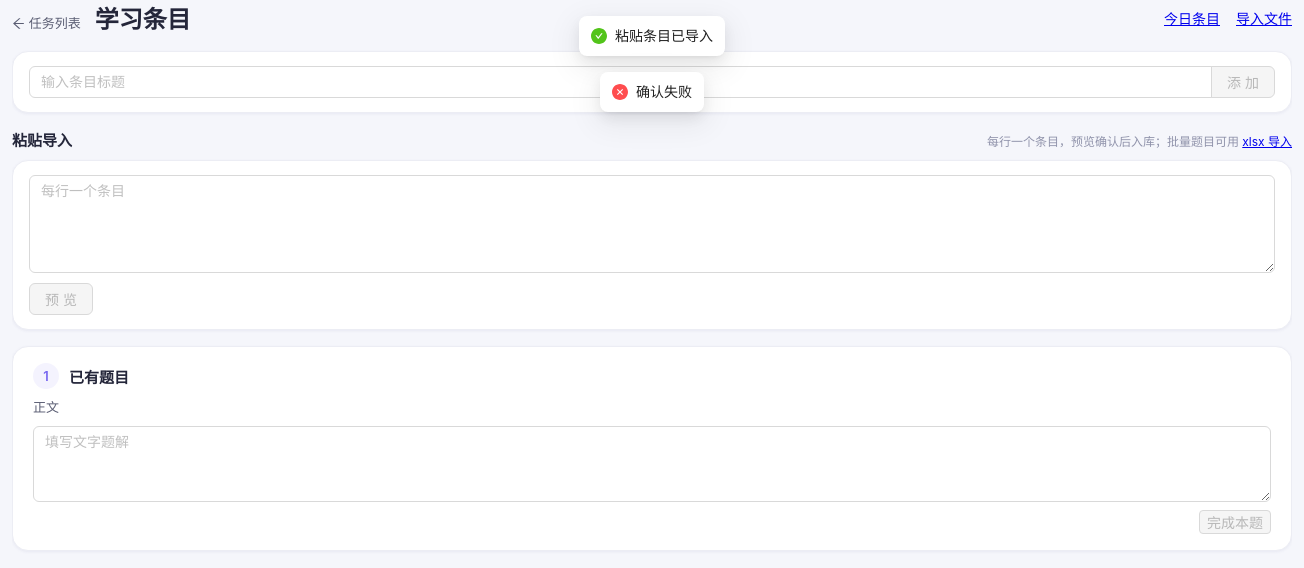
Scenario: ItemPage 完成闭环 › sends exactly one complete request with Idempotency-Key and refreshes to completed state
Step 1. Type "我的题解" into the text box named "题解-item-1" → point(652, 464), box [33,426,1271,502]
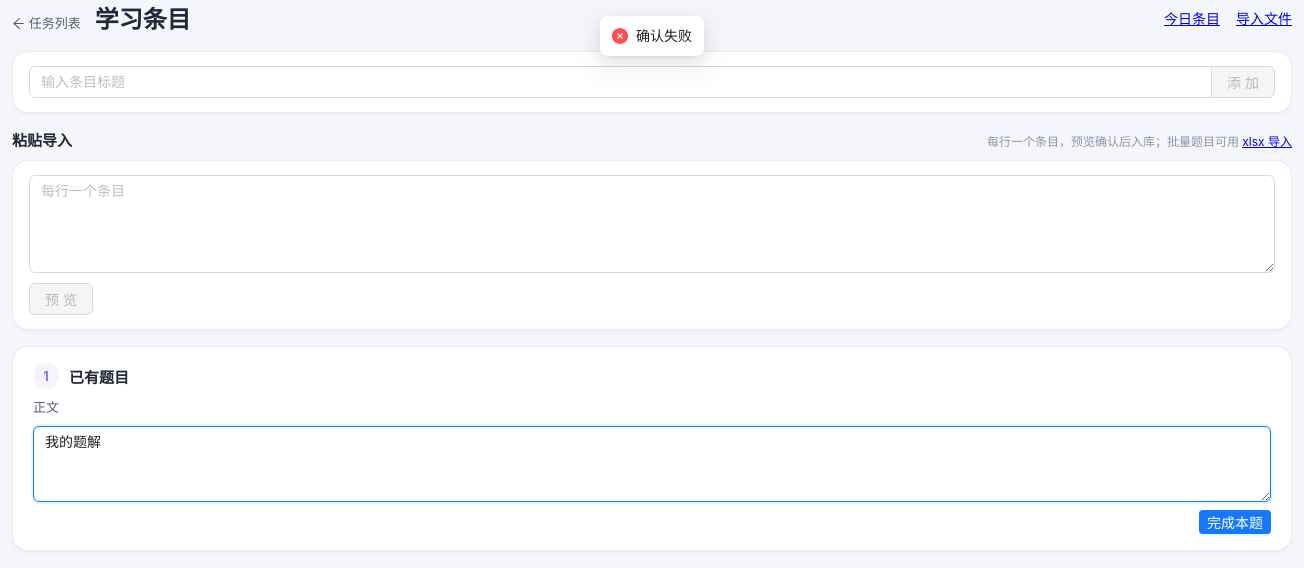
Step 2. Click the button "完成本题" → point(1235, 522), box [1199,510,1271,534]
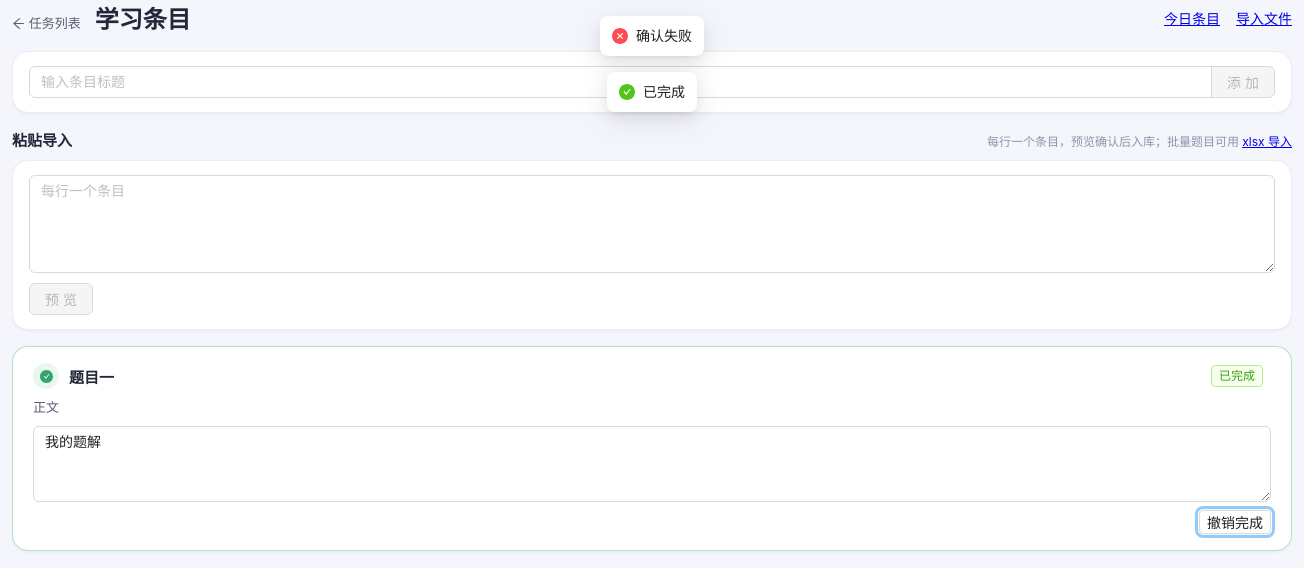
Expected: the button "撤销完成" is shown, [1199,510,1271,534]
Expected: the text "已完成" in the row of "题目一" is shown, [1219,368,1255,383]
